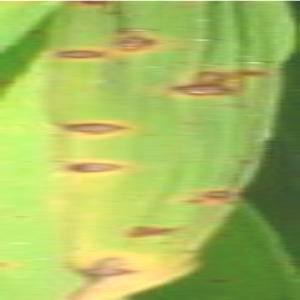0 BrownSpot: (47, 153, 136, 182), (166, 77, 246, 105), (54, 114, 134, 141), (116, 219, 190, 245), (64, 261, 146, 283), (41, 43, 114, 66), (105, 34, 166, 56), (233, 59, 280, 84), (190, 65, 238, 89), (196, 185, 246, 207), (108, 22, 168, 37), (173, 194, 207, 210), (206, 274, 234, 287), (210, 228, 235, 242), (71, 1, 118, 8), (10, 211, 32, 221), (1, 256, 11, 275)
